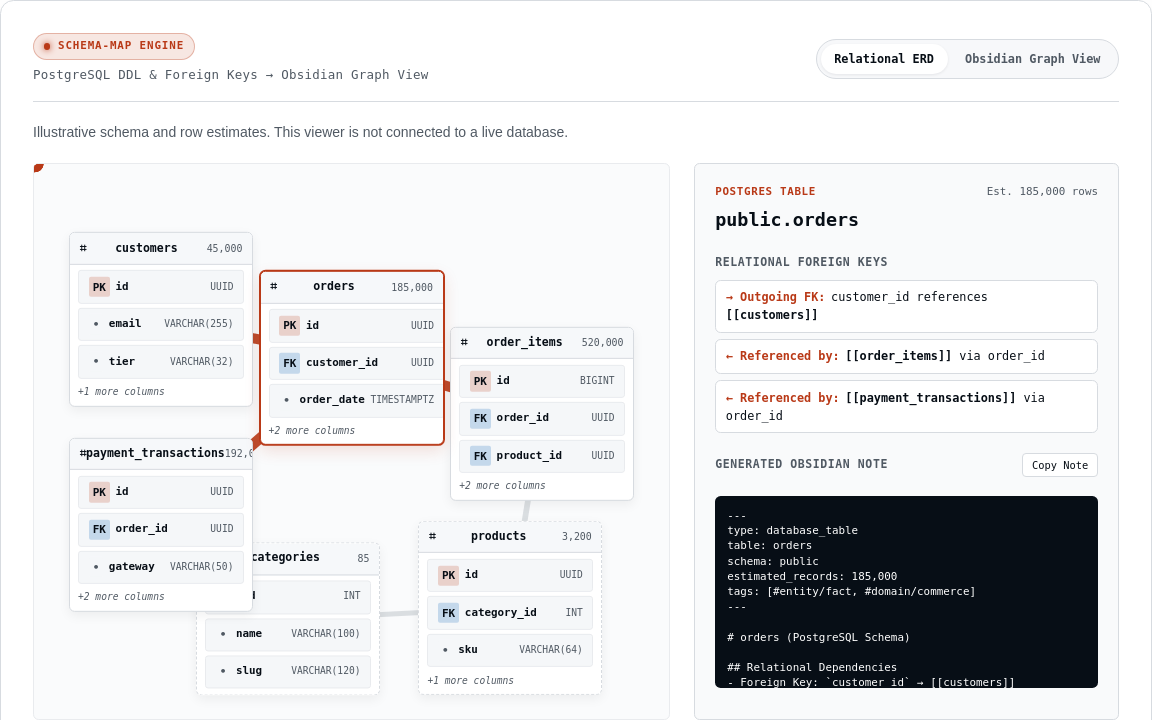
Test: SchemaGraphViewer Component › does not report copy success when the clipboard rejects the write
What coordinates should you click on to do the following:
click the button with aria-label "Copy markdown"
I would click on:
 (1060, 465)
Its box is [1022, 453, 1098, 477].
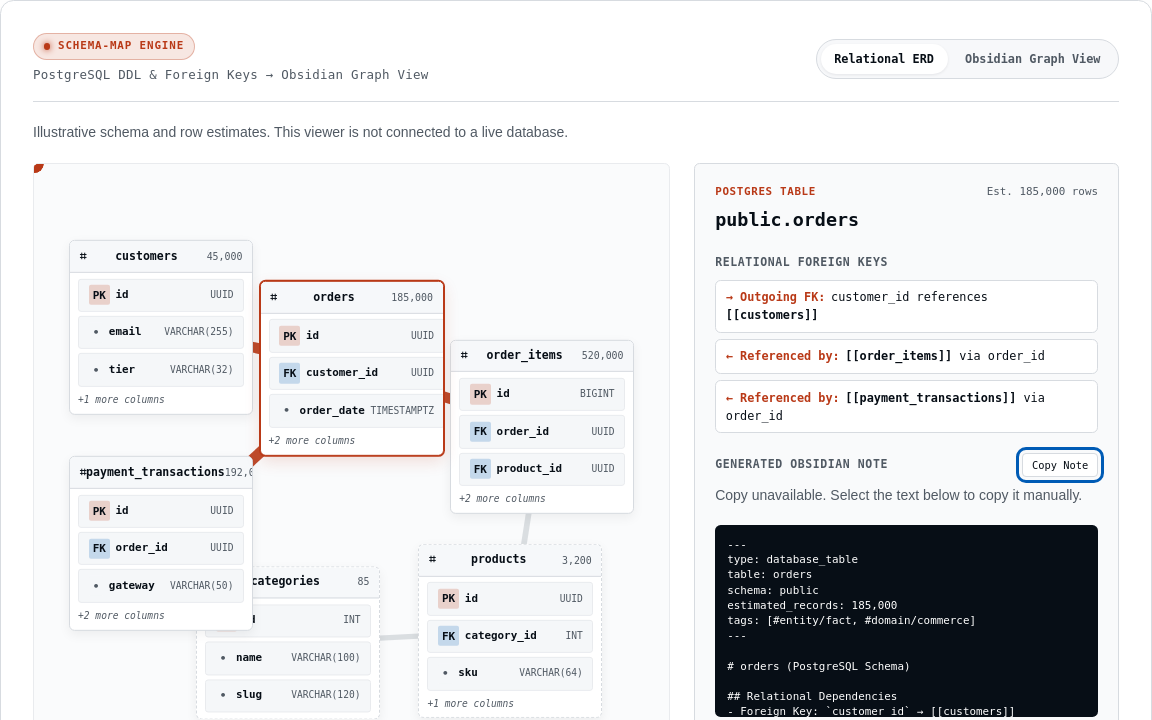
Check: the text "Copy unavailable. Select the text below to copy it manually." is shown, box [715, 485, 1098, 506]
